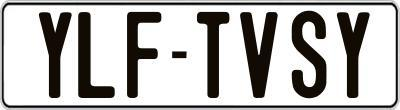F: (125, 11, 160, 102)
L: (75, 11, 113, 100)
S: (292, 11, 328, 102)
T: (194, 11, 232, 101)
V: (239, 12, 278, 103)
Y: (335, 10, 370, 99), (36, 11, 69, 102)
